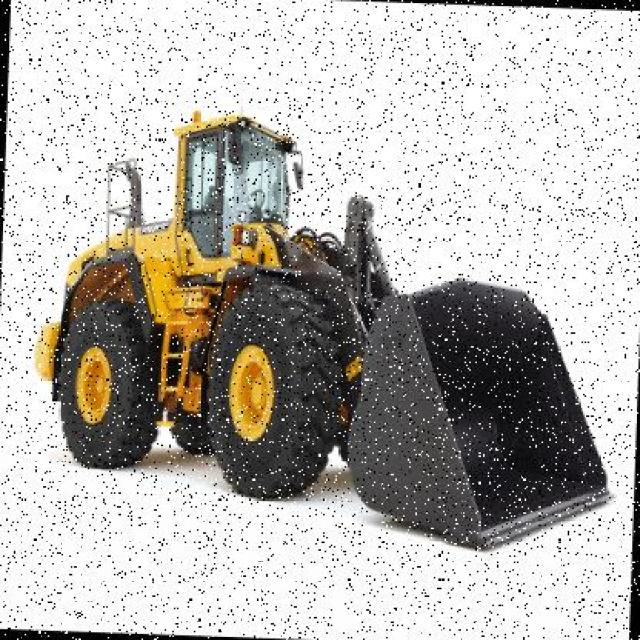buldozerpayloadergrader: (29, 81, 629, 561)
